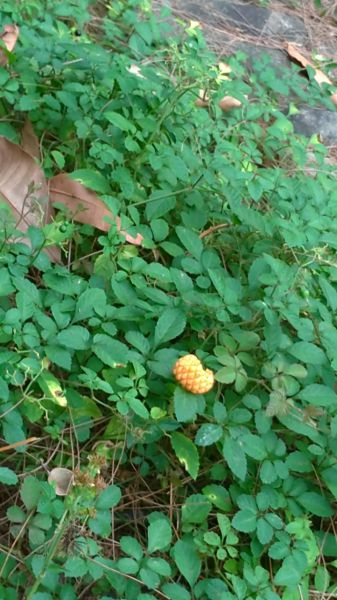eggs: (170, 348, 218, 401)
